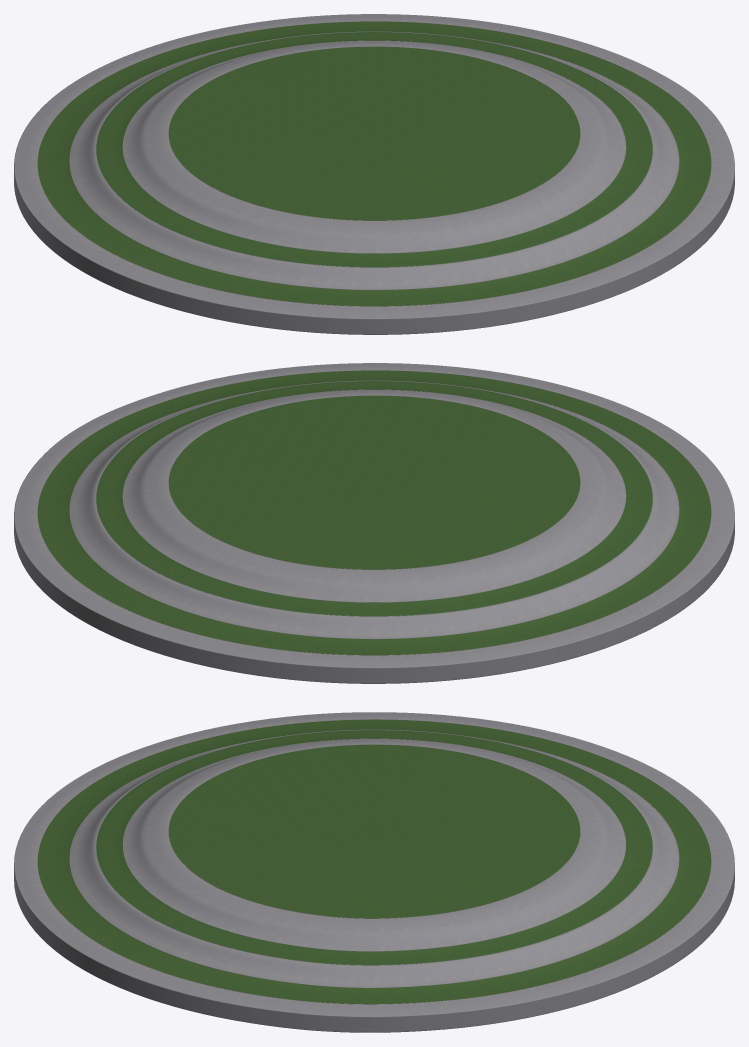
File: SM_Disc_Platform_01.fbx
The picture shows the model from 3 angles, top to bottom: view 1: azimuth 30°, elevation 25°; view 2: azimuth 150°, elevation 25°; view 3: azimuth 270°, elevation 25°; orthographic projection.
Parts seen in each view (by area): view 1: SM_Disc_Platform_01_LOD0; view 2: SM_Disc_Platform_01_LOD0; view 3: SM_Disc_Platform_01_LOD0.
Part boxes in pixels (x1=…): SM_Disc_Platform_01_LOD0: x1=14, y1=14, x2=734, y2=334; SM_Disc_Platform_01_LOD0: x1=14, y1=363, x2=734, y2=683; SM_Disc_Platform_01_LOD0: x1=14, y1=712, x2=734, y2=1032.
Size of the model in its own units: 12001 by 12001 by 900.
3 materials, 3 textured.
